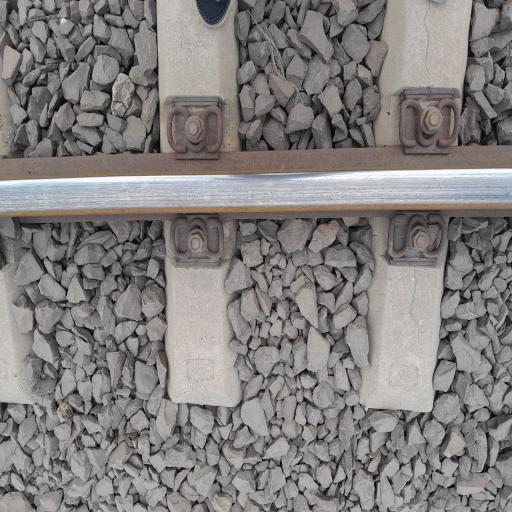bolt: (404, 219, 443, 264), (415, 100, 454, 137), (180, 111, 211, 144), (185, 228, 211, 259)
clip: (397, 86, 473, 162), (387, 207, 460, 272), (159, 215, 236, 276), (162, 94, 229, 162)
rail: (109, 162, 473, 210)
